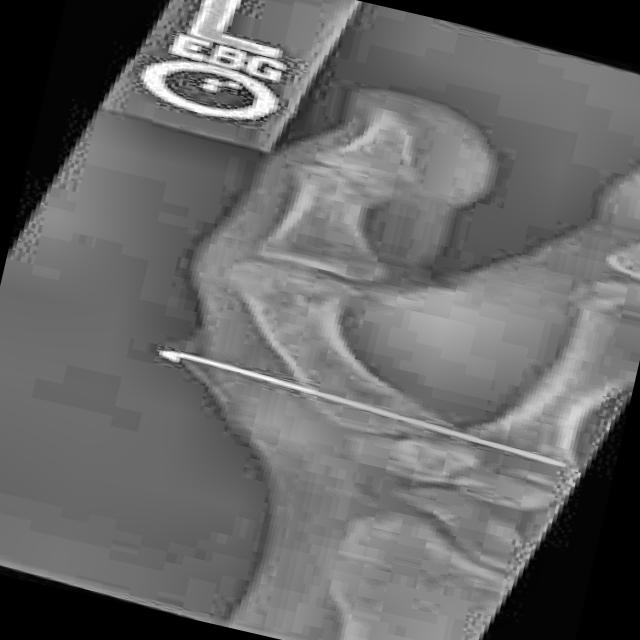fingers positive: (318, 157, 427, 213)
